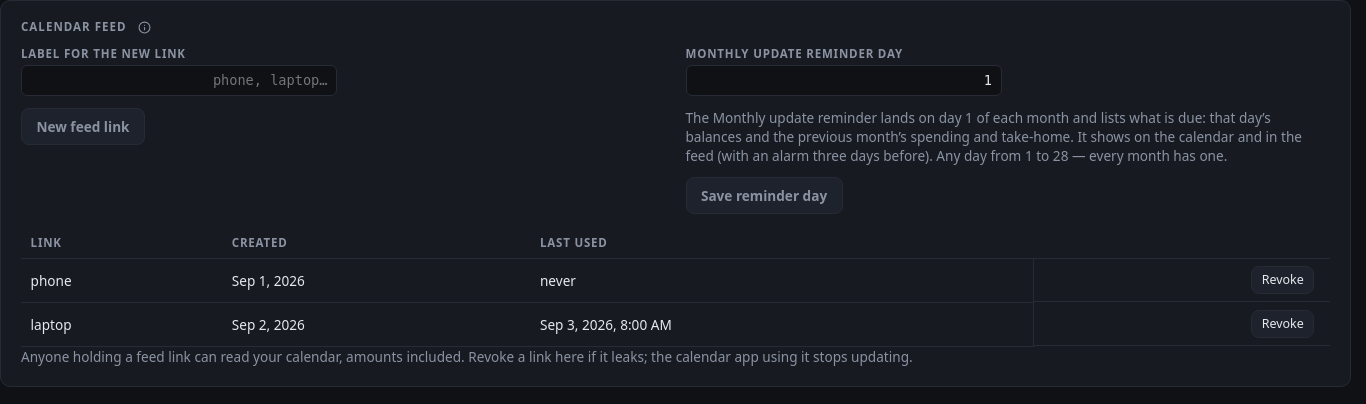
CalendarFeedCard › saves the due day and says so
Replace the text in the field labelled "Monthly update reminder day" with "5" at x=844, y=80, box [686,65,1002,96]
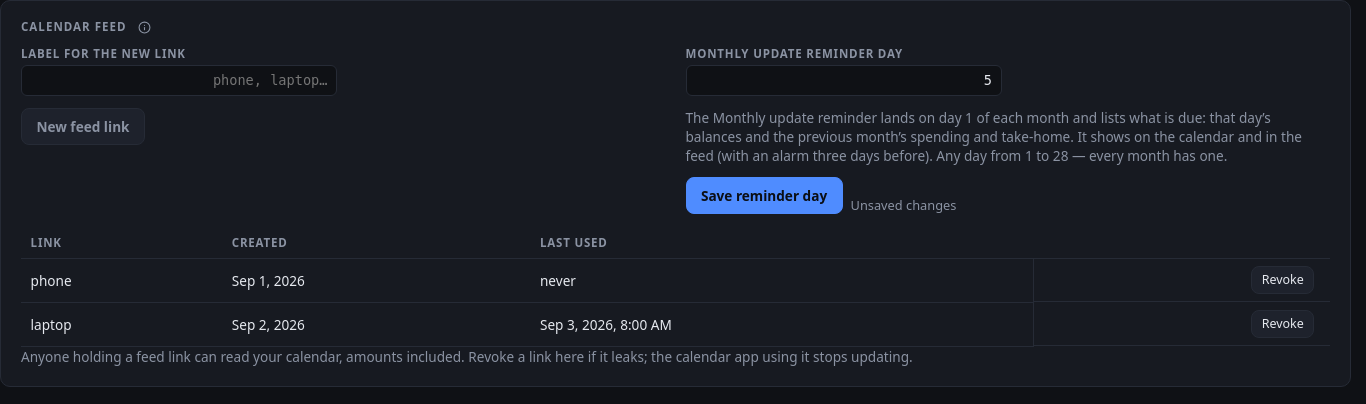
Click the button "Save reminder day" at x=764, y=195, box [686,177,842,214]
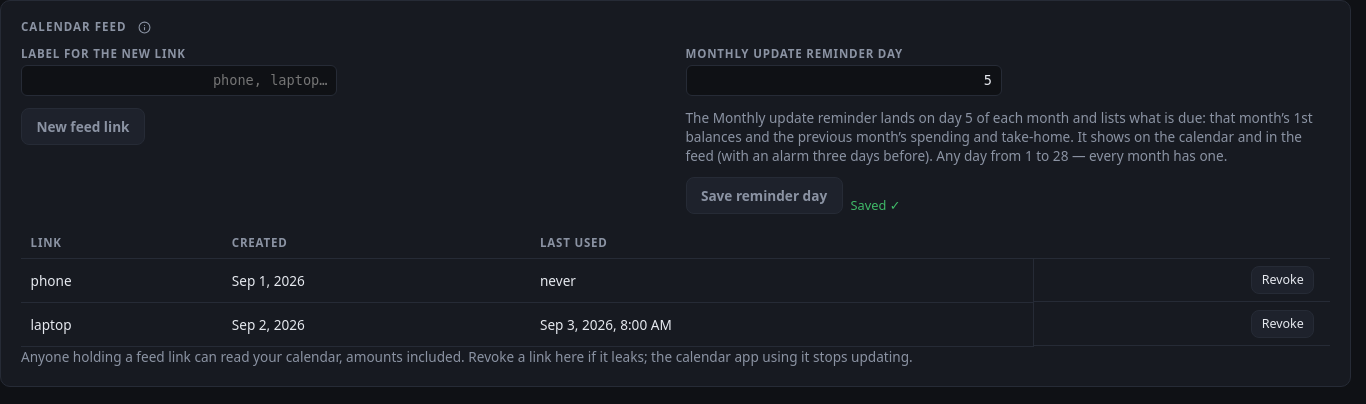
Now the text "Saved ✓" is shown, box [850,197,900,214]
